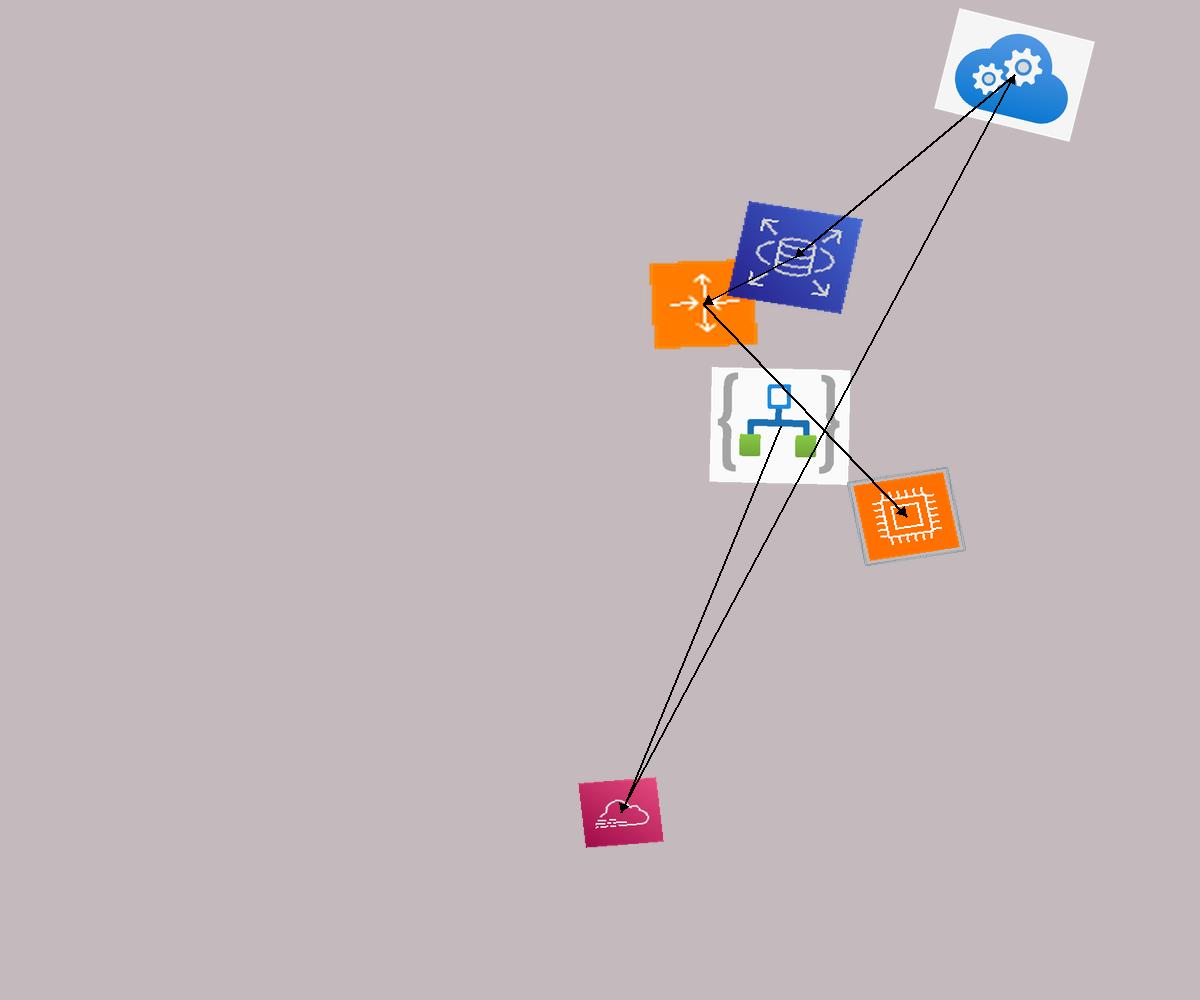AWS-Category_Compute: (846, 466, 967, 567)
AWS-CloudTrail: (578, 777, 664, 848)
AWS-RDS: (727, 201, 863, 314)
AWS-Scaling-group: (647, 257, 760, 351)
Azure_cloud_services: (934, 8, 1095, 142)
Azure_integration-204-Logic-Apps: (709, 367, 851, 485)
